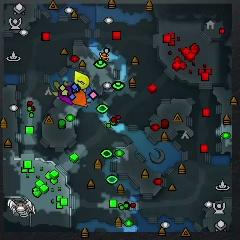p1: (85, 87, 92, 100)
p3: (58, 85, 73, 104)
p4: (74, 70, 89, 89)
p5: (71, 90, 87, 107)
x2: (53, 80, 67, 96)
